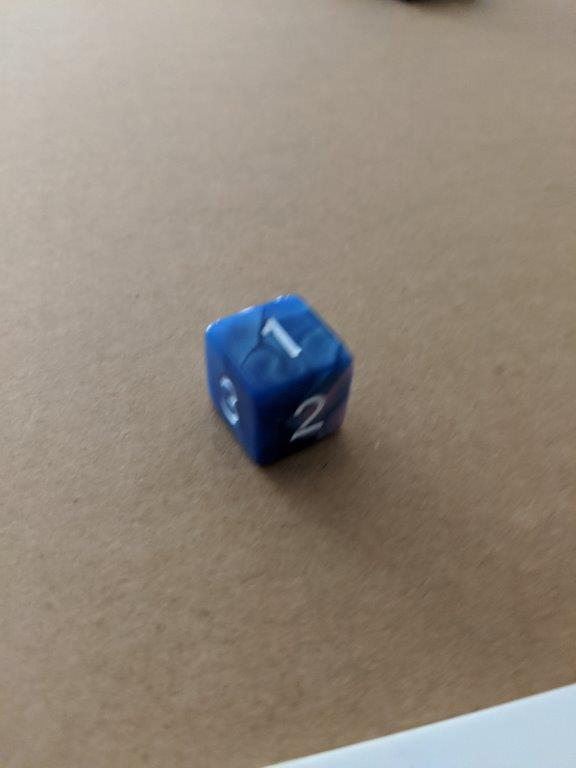d6-1: (204, 291, 353, 464)
